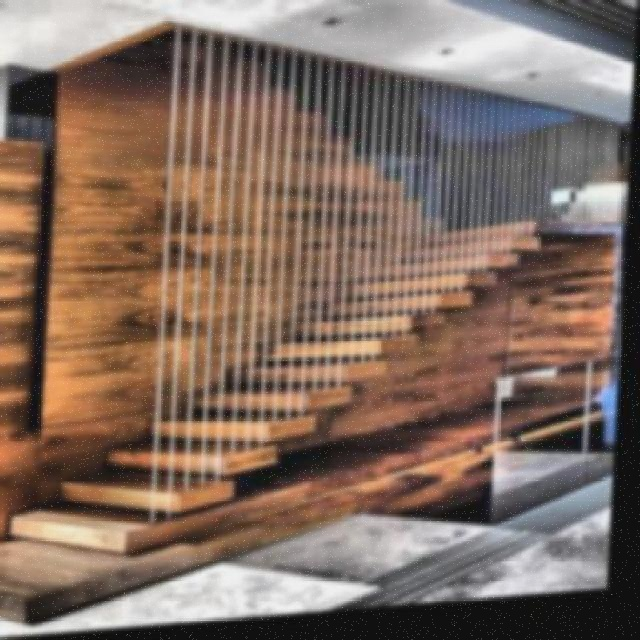stair: (17, 218, 609, 560)
